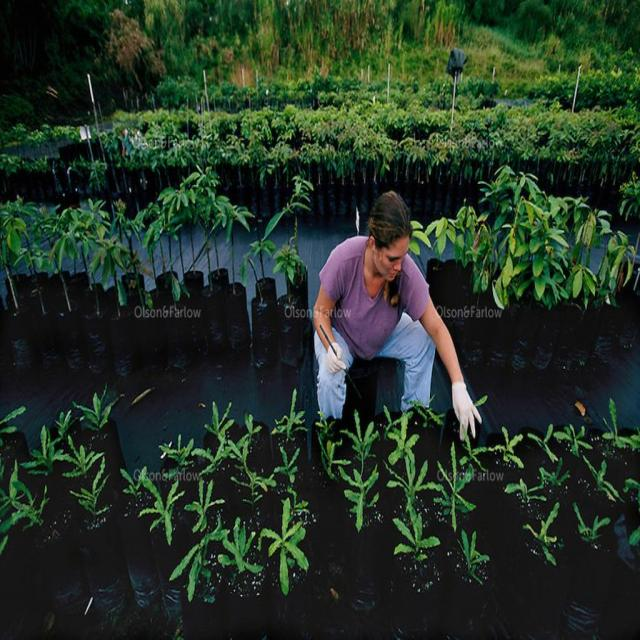nomask: (376, 236, 408, 281)
